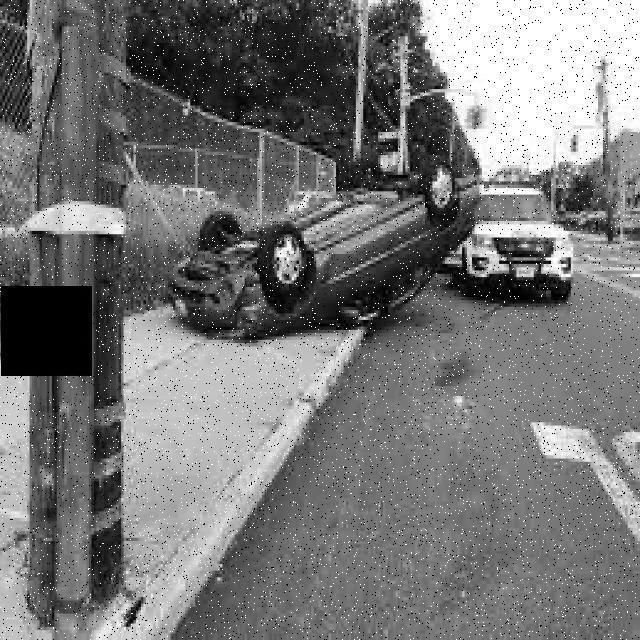accident: (162, 152, 481, 340)
vehicle: (469, 174, 582, 314)
